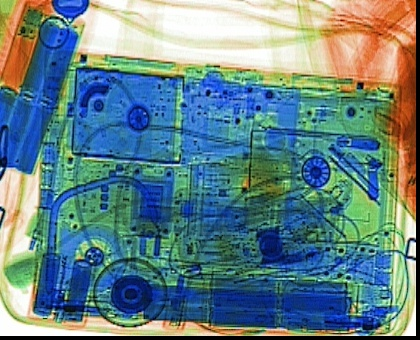powerbank: (2, 13, 85, 176)
